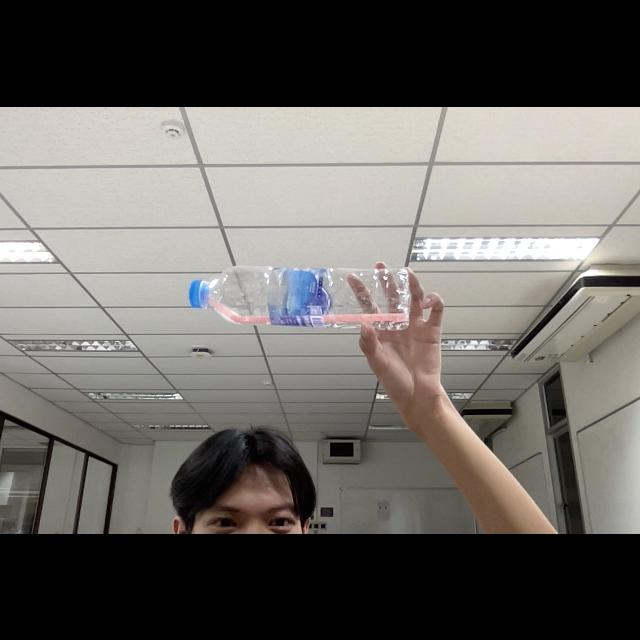plastic_bottle: (186, 258, 416, 334)
